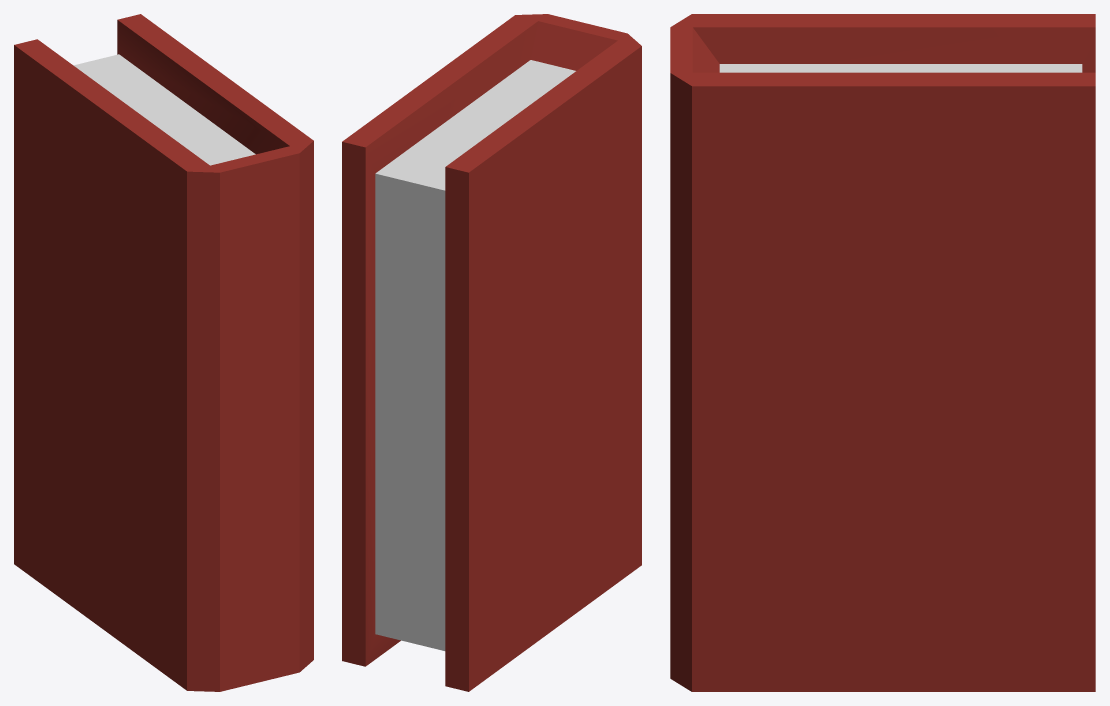
The model's file is misc_book4.fbx.
The picture shows the model from 3 angles, left to right: view 1: azimuth 30°, elevation 25°; view 2: azimuth 150°, elevation 25°; view 3: azimuth 270°, elevation 25°; orthographic projection. The views are drawn at different scales.
Parts seen in each view (by area): view 1: misc_book4; view 2: misc_book4; view 3: misc_book4.
Boxes of the visible parts, bbox=[...] form: misc_book4: bbox=[14, 14, 313, 691]; misc_book4: bbox=[342, 14, 641, 691]; misc_book4: bbox=[670, 14, 1095, 691].
Size of the model in its own units: 6.49 by 25.41 by 16.17.
